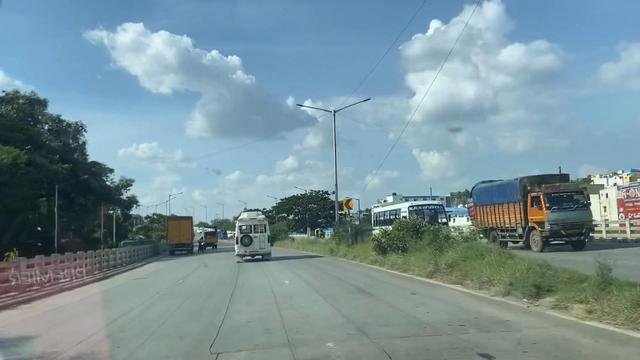HMV: (156, 214, 199, 262), (239, 212, 271, 266)
